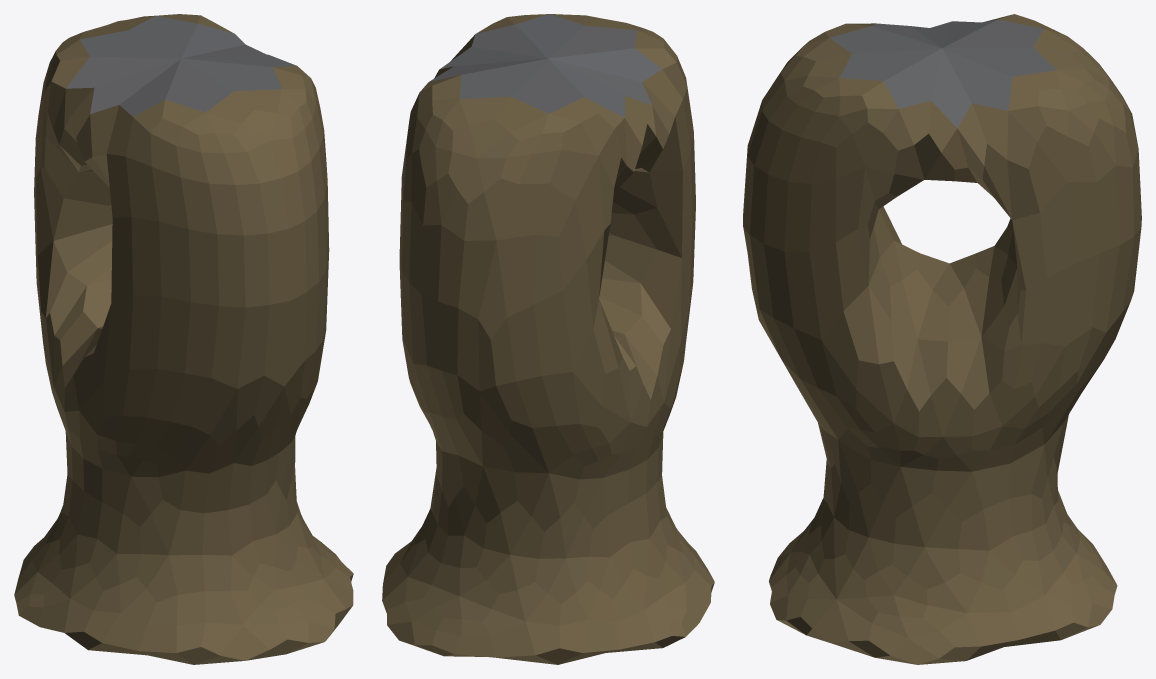
File: Ring Island1.fbx
The picture shows the model from 3 angles, left to right: view 1: azimuth 30°, elevation 25°; view 2: azimuth 150°, elevation 25°; view 3: azimuth 270°, elevation 25°; orthographic projection.
Parts seen in each view (by area): view 1: Cylinder; view 2: Cylinder; view 3: Cylinder.
Part boxes in pixels (bbox=[...]): Cylinder: bbox=[14, 14, 353, 664]; Cylinder: bbox=[382, 14, 714, 664]; Cylinder: bbox=[743, 14, 1141, 664].
Bounding box in the file's own units: 303 × 525 × 343.
